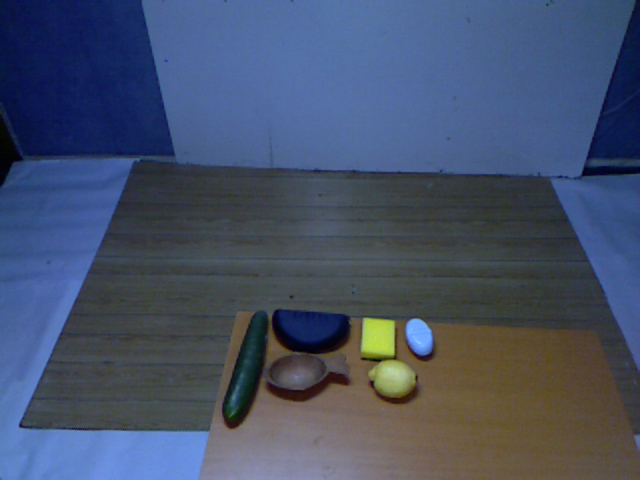esponja: (355, 312, 403, 365)
estuche: (268, 303, 353, 352)
jabon: (400, 314, 437, 363)
limon: (364, 353, 424, 407)
pepino: (217, 303, 273, 434)
pescado: (263, 349, 356, 400)
